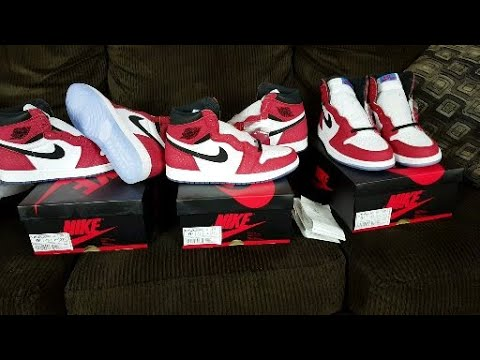Air Jordan 1 Spiderman: (162, 95, 297, 185), (1, 100, 124, 185), (219, 81, 315, 155)
